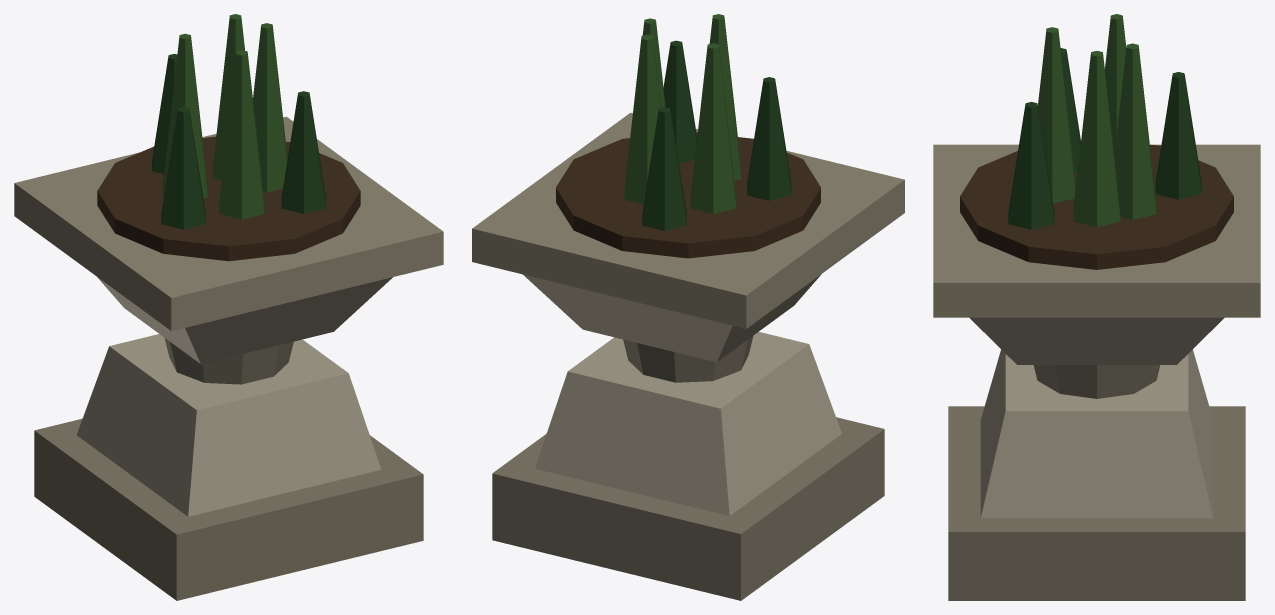
Rendered from lp_court_urn.glb.
The picture shows the model from 3 angles, left to right: view 1: azimuth 30°, elevation 25°; view 2: azimuth 150°, elevation 25°; view 3: azimuth 270°, elevation 25°; orthographic projection. The views are drawn at different scales.
Visible parts, largest first — view 1: lp_court_urn; view 2: lp_court_urn; view 3: lp_court_urn.
Boxes of the visible parts, left/top/right/bottom form: lp_court_urn: left=14, top=14, right=443, bottom=600; lp_court_urn: left=472, top=14, right=904, bottom=600; lp_court_urn: left=933, top=14, right=1260, bottom=600.
Bounding box in the file's own units: 0.86 × 1.46 × 0.86.
1 material, 1 textured.
